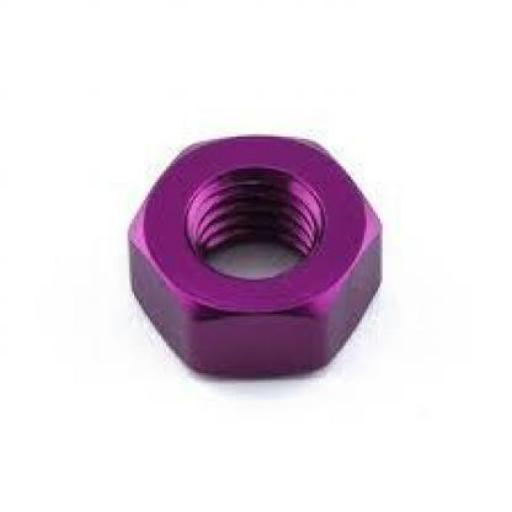Nut: (126, 134, 384, 379)
